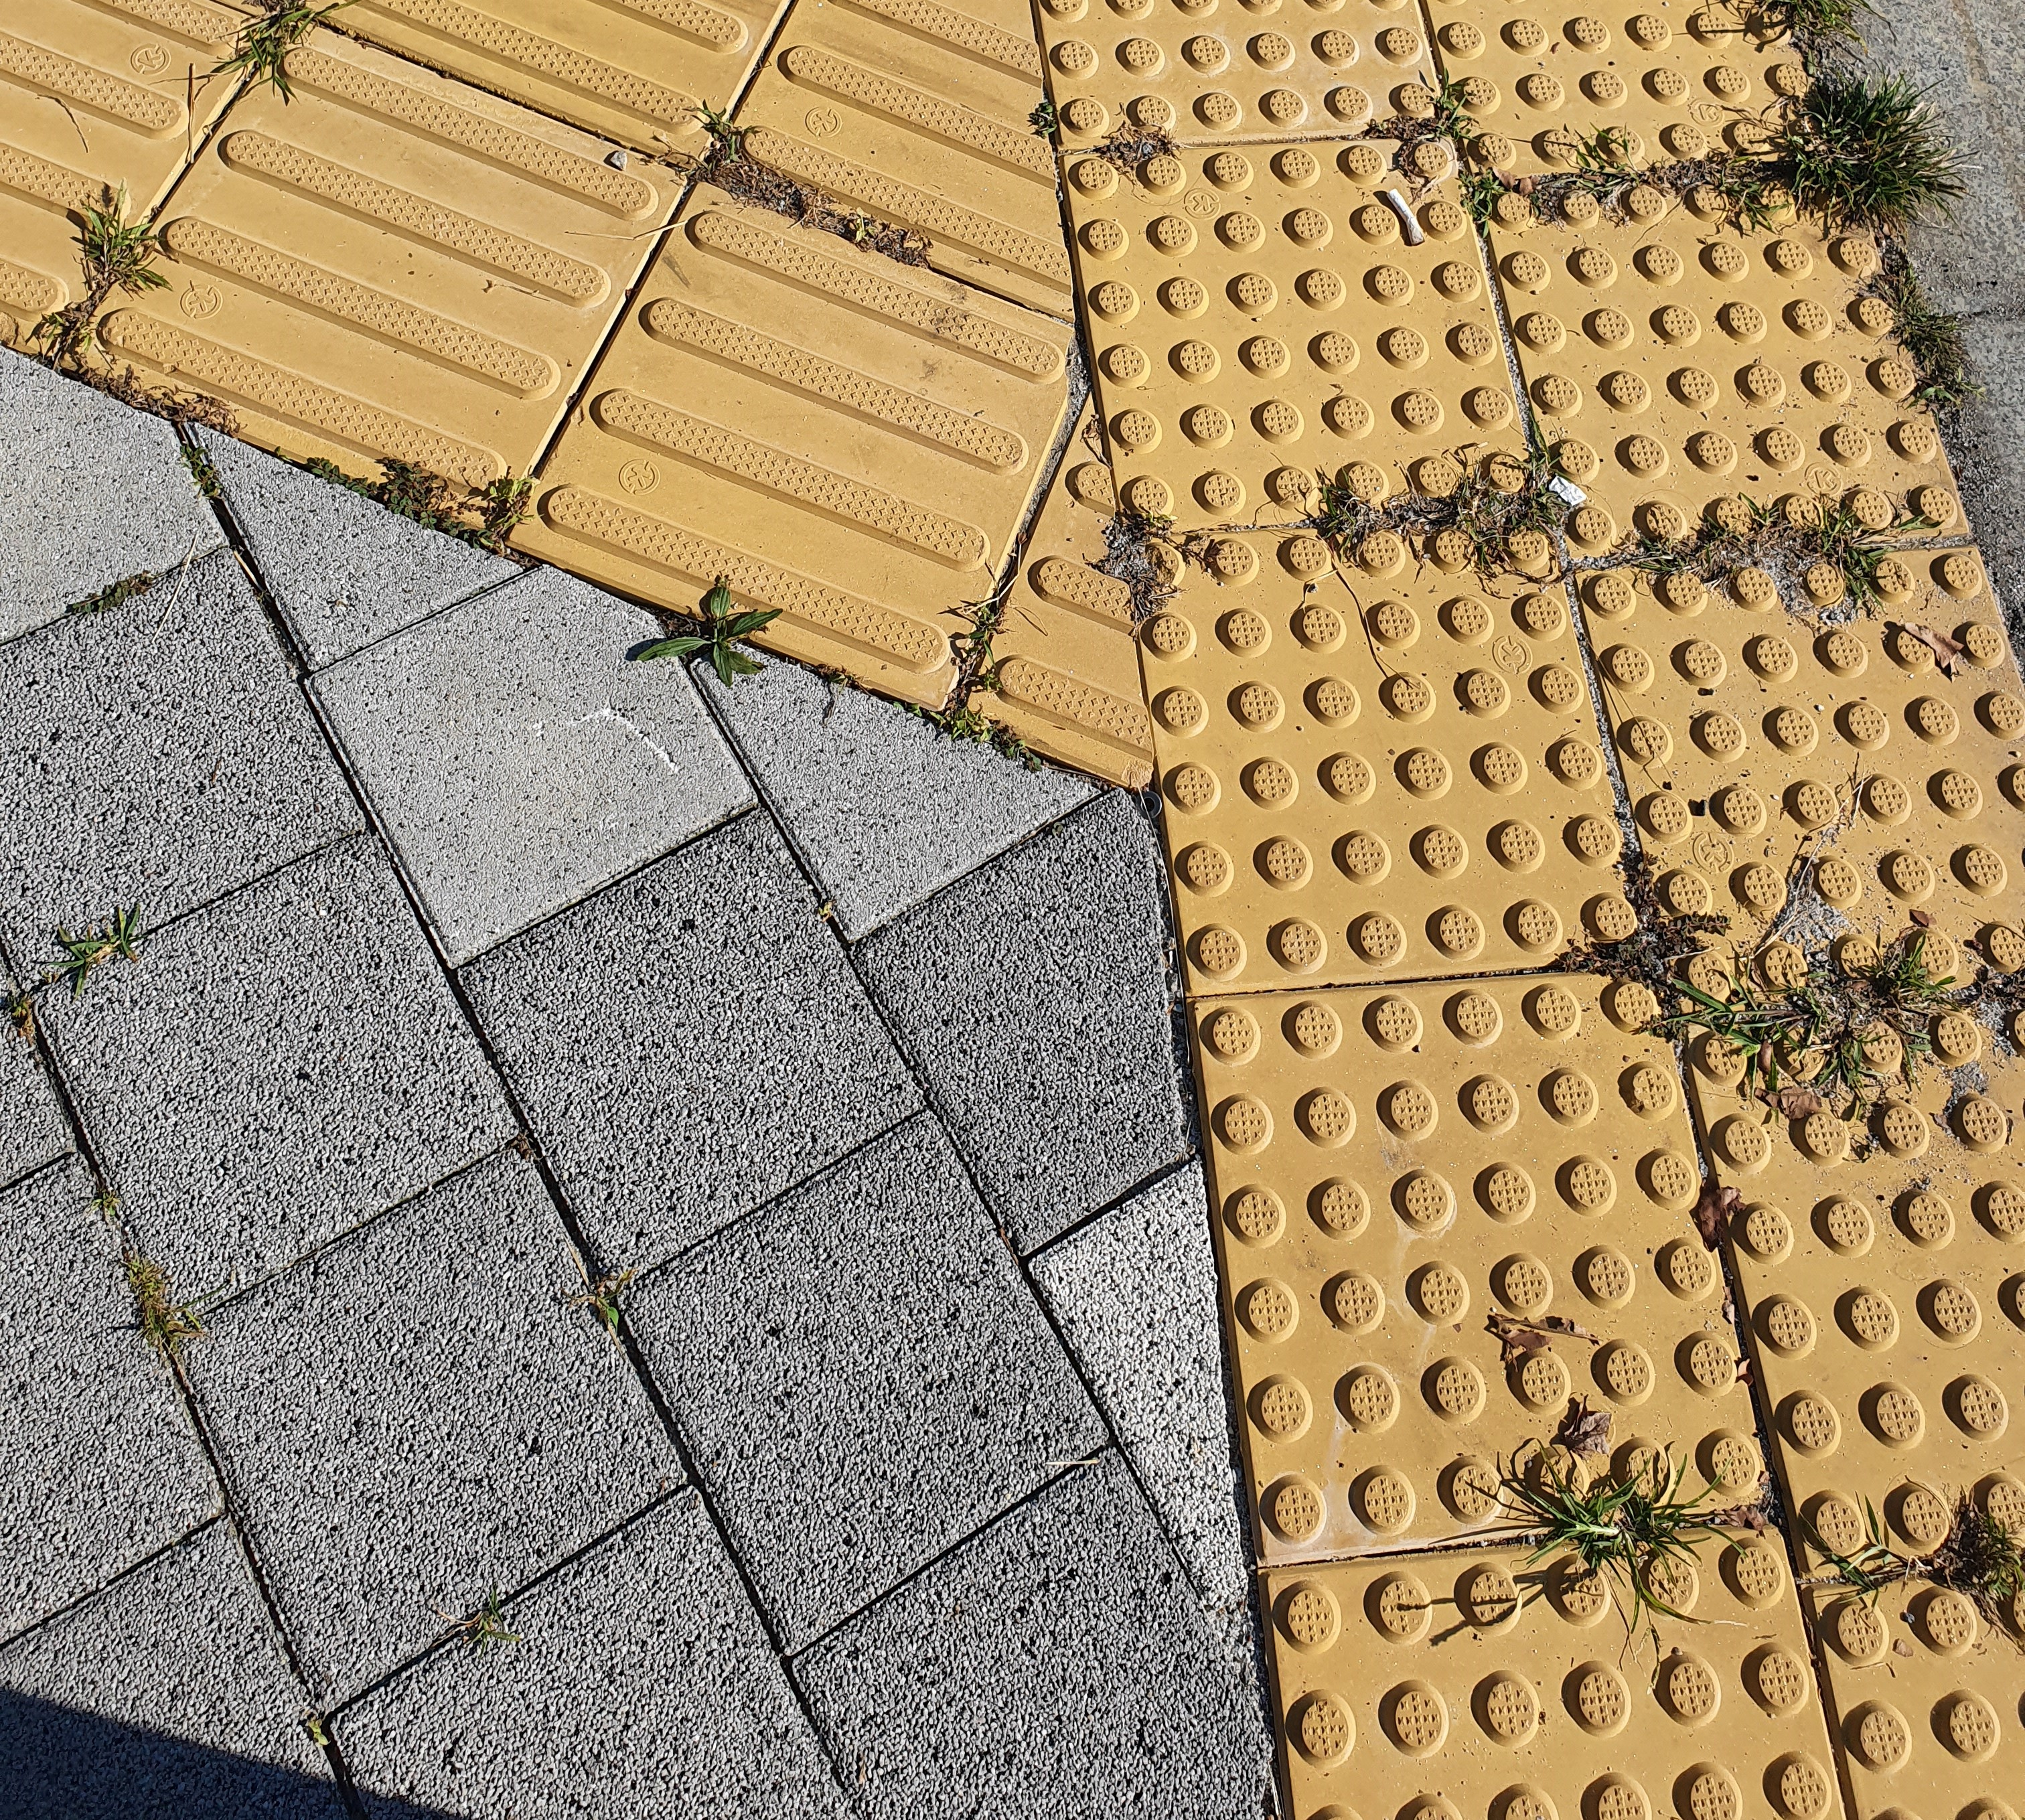guideBlock: (599, 184, 1099, 694), (153, 49, 681, 492)
warningBlock: (1189, 994, 1793, 1521), (1154, 541, 1749, 1051), (1182, 1518, 1793, 1820), (1098, 126, 1546, 532), (1707, 971, 2025, 1511), (1625, 525, 2025, 940), (1456, 169, 1927, 480), (1816, 1488, 2025, 1820), (1472, 2, 1814, 144), (1063, 14, 1366, 153)
